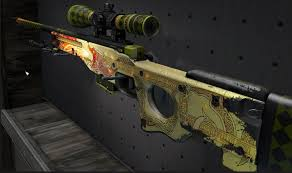gun: (14, 1, 291, 171)
